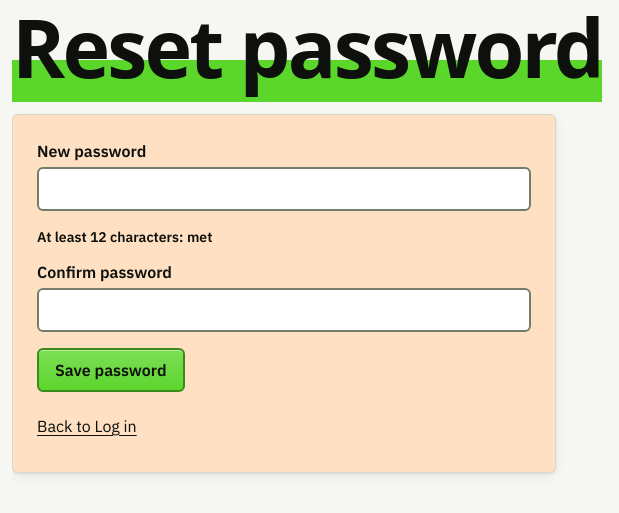
Test: reset password page › says the password was changed and sends the person to log in again
The image size is (619, 513).
Type "copper-meadow-lantern-58" into the password field labelled "New password" at coordinates (284, 189), box [37,167,531,211]
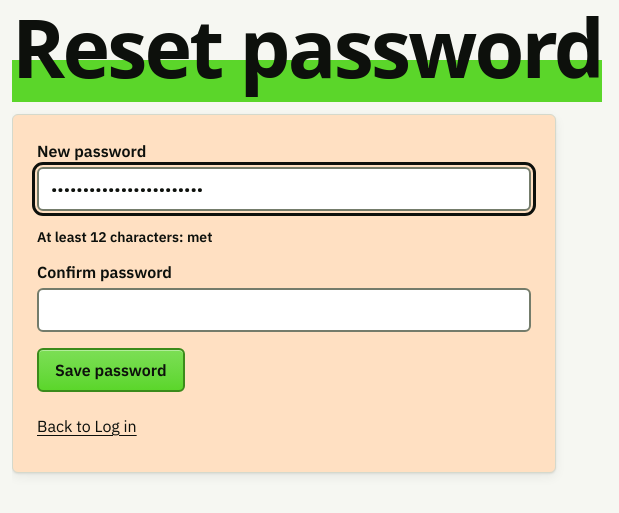
Type "copper-meadow-lantern-58" into the password field labelled "Confirm password" at coordinates (284, 310), box [37,288,531,332]
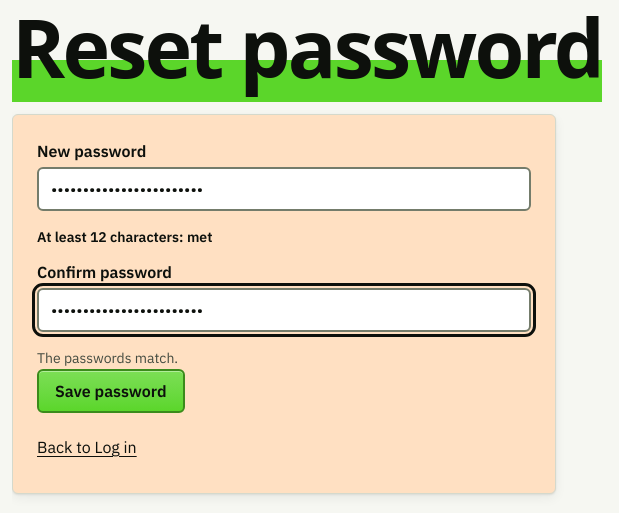
Click the button "Save password" at coordinates (111, 391), box [37,369,185,413]
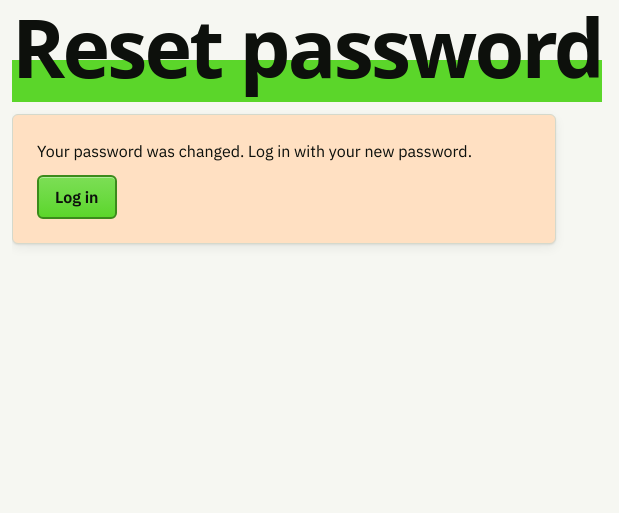
Check: the message reads "Your password was changed. Log in with your new password.", box [37,141,472,161]
